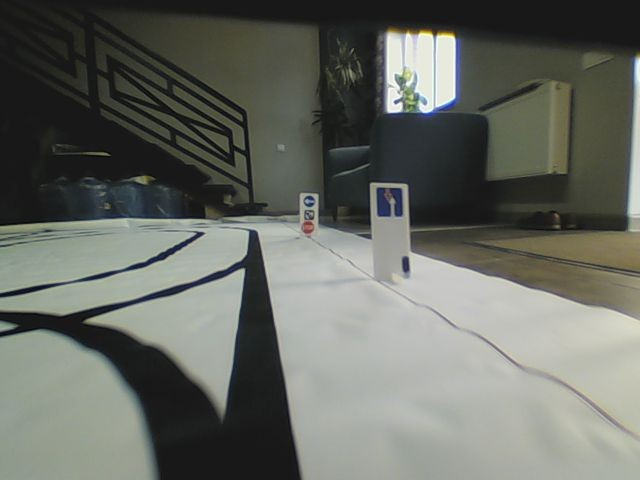priority_movement: (375, 186, 406, 219)
